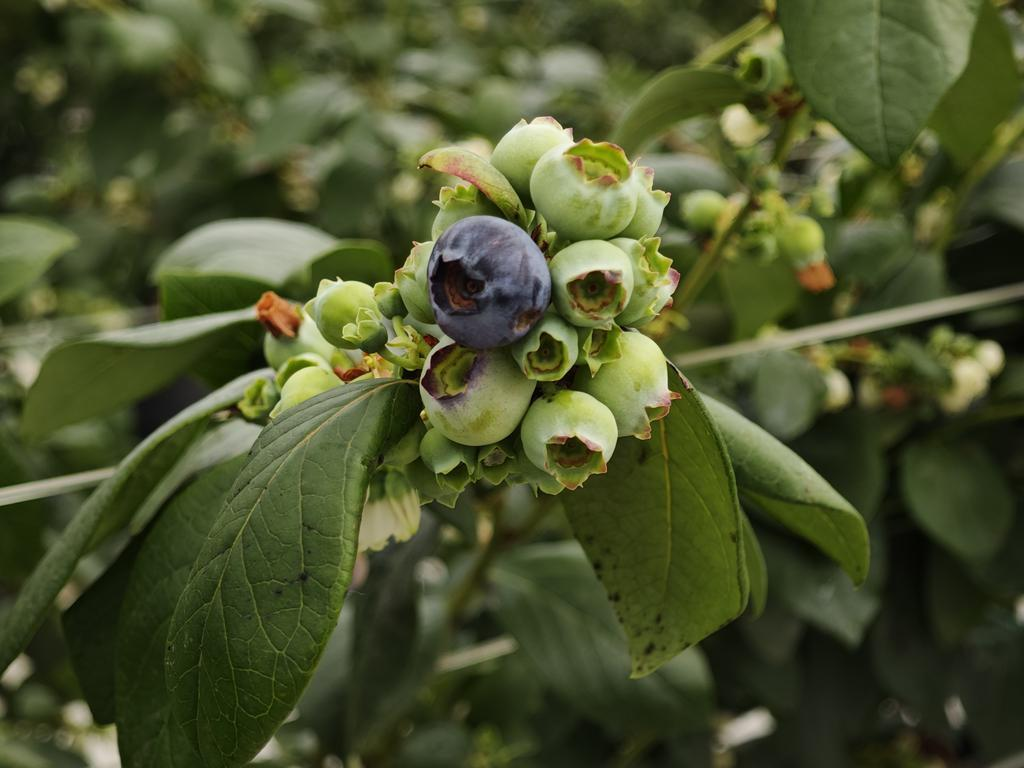RipeBlueBerry: (423, 214, 557, 352)
UnripeBlueBerry: (418, 338, 544, 451), (529, 136, 643, 239)
